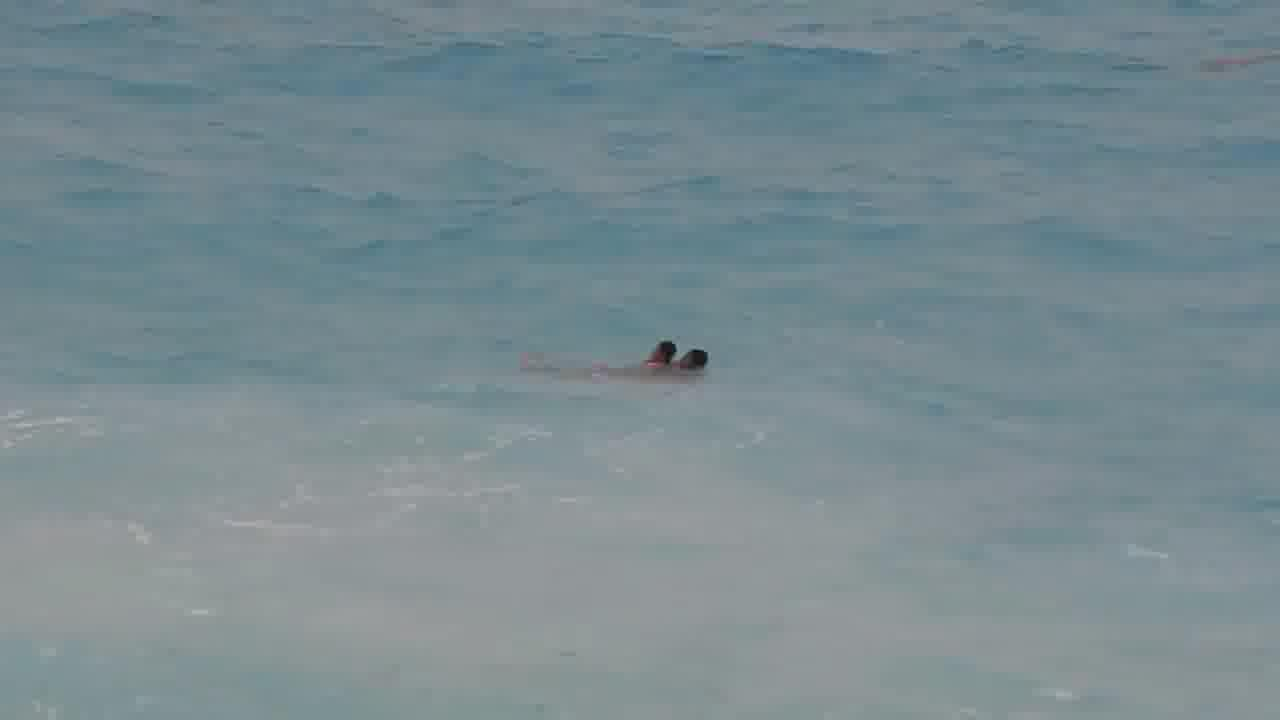human: (501, 328, 684, 382), (676, 337, 731, 386)
